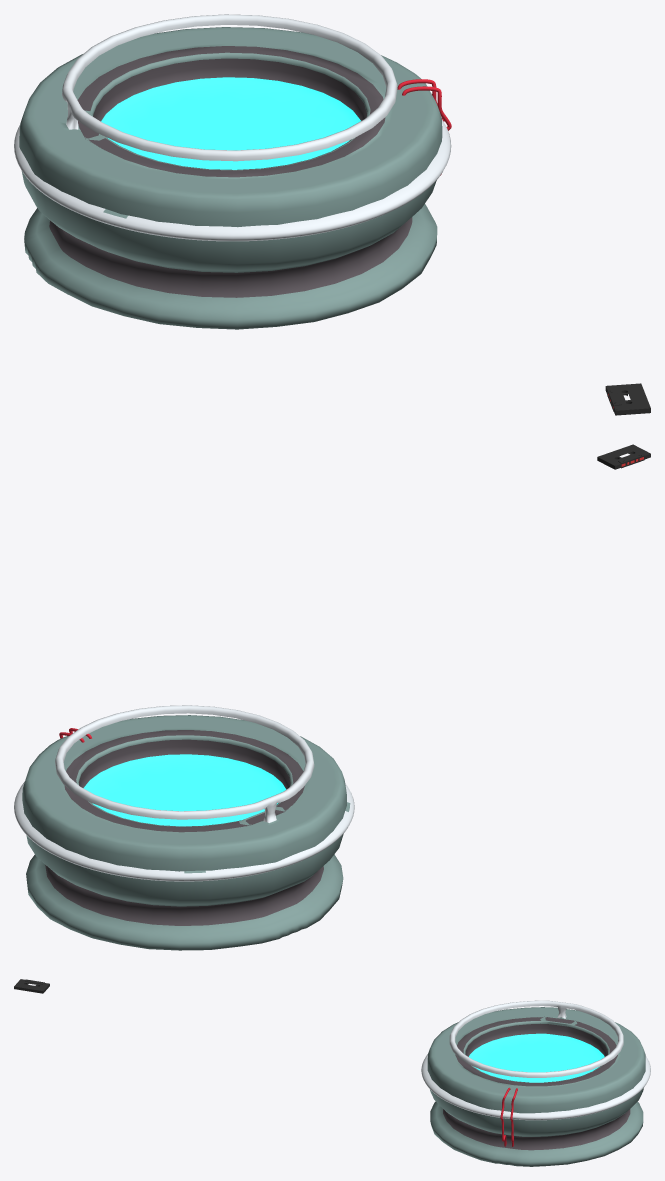
The model's file is Decors_7.glb.
The picture shows the model from 3 angles, top to bottom: view 1: azimuth 30°, elevation 25°; view 2: azimuth 150°, elevation 25°; view 3: azimuth 270°, elevation 25°; orthographic projection. The views are drawn at different scales.
Visible parts, largest first — view 1: HologramBase, Casette.001; view 2: HologramBase, Casette.001; view 3: HologramBase, Casette.001.
Part boxes in pixels (x1,y1,x2,y2): HologramBase: (14,14,451,329); Casette.001: (605,383,650,415); HologramBase: (14,705,354,950); Casette.001: (597,444,650,469); HologramBase: (421,1000,650,1166); Casette.001: (14,979,49,993).
Size of the model in its own units: 3.58 by 2.12 by 9.93.
